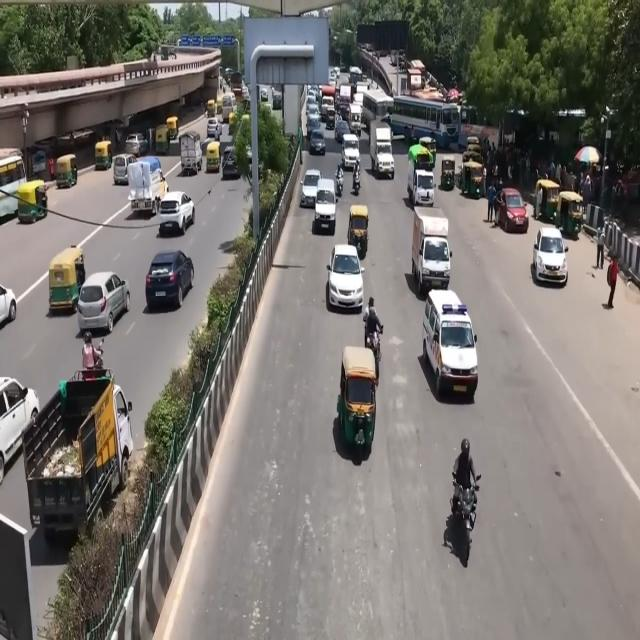auto: (335, 333, 376, 503), (341, 332, 380, 480), (39, 231, 89, 329), (343, 191, 375, 273), (11, 180, 52, 222), (556, 190, 584, 239), (55, 153, 78, 188), (442, 151, 456, 198), (94, 140, 113, 171), (154, 124, 171, 155), (206, 140, 221, 173), (166, 116, 179, 141)
bike-auto: (441, 430, 494, 590), (361, 291, 389, 370), (333, 158, 346, 200), (351, 156, 363, 198)
